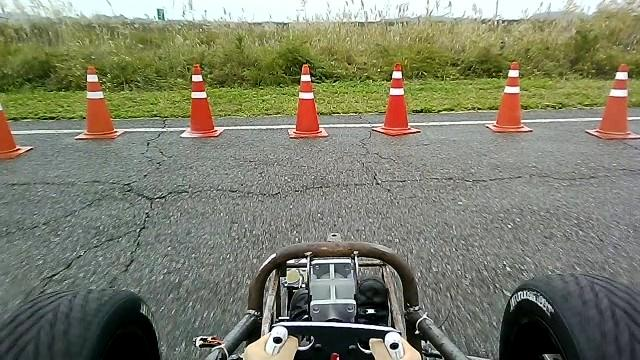red cone: (584, 63, 639, 139), (73, 65, 125, 139), (371, 62, 421, 135), (485, 60, 533, 132), (179, 63, 223, 137), (287, 63, 328, 138)
